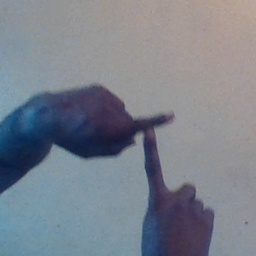T: (105, 88, 199, 217)
